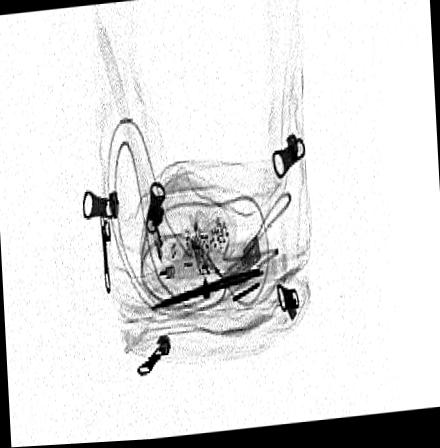Scissors: (146, 261, 270, 321)
